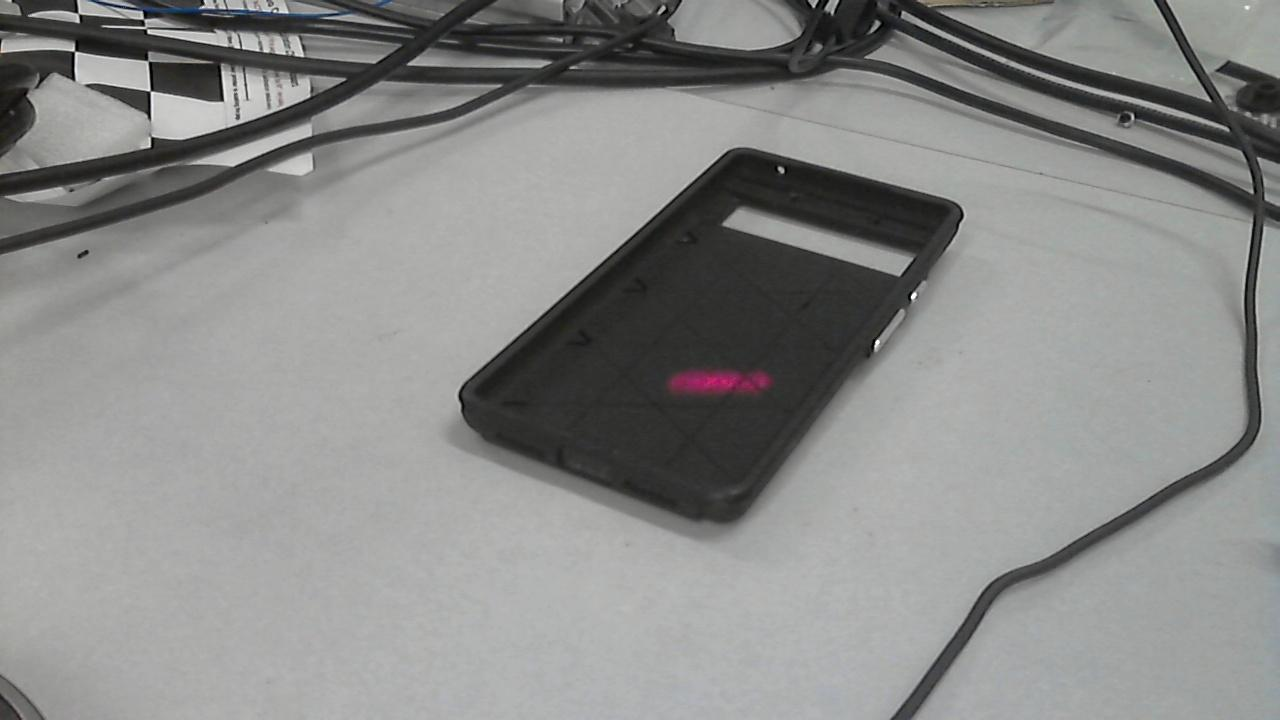Object protective phone case - Material rubber - Pdfname asdfeafgta: (665, 359, 777, 396)
